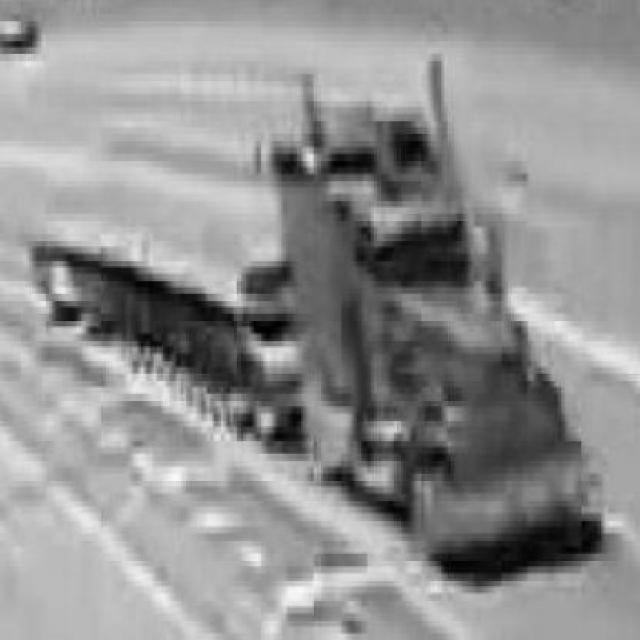Box Truck: (31, 54, 605, 541)
